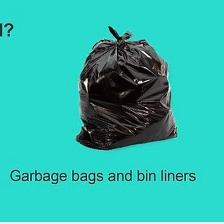plastic_bag: (68, 20, 183, 154)
